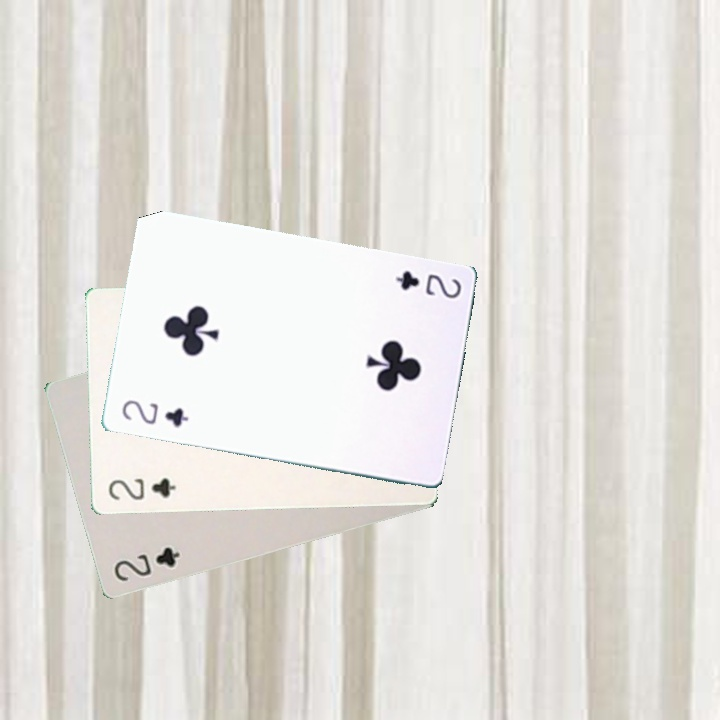2c: (110, 543, 183, 584), (118, 395, 191, 430), (392, 267, 464, 301), (104, 474, 179, 503)
